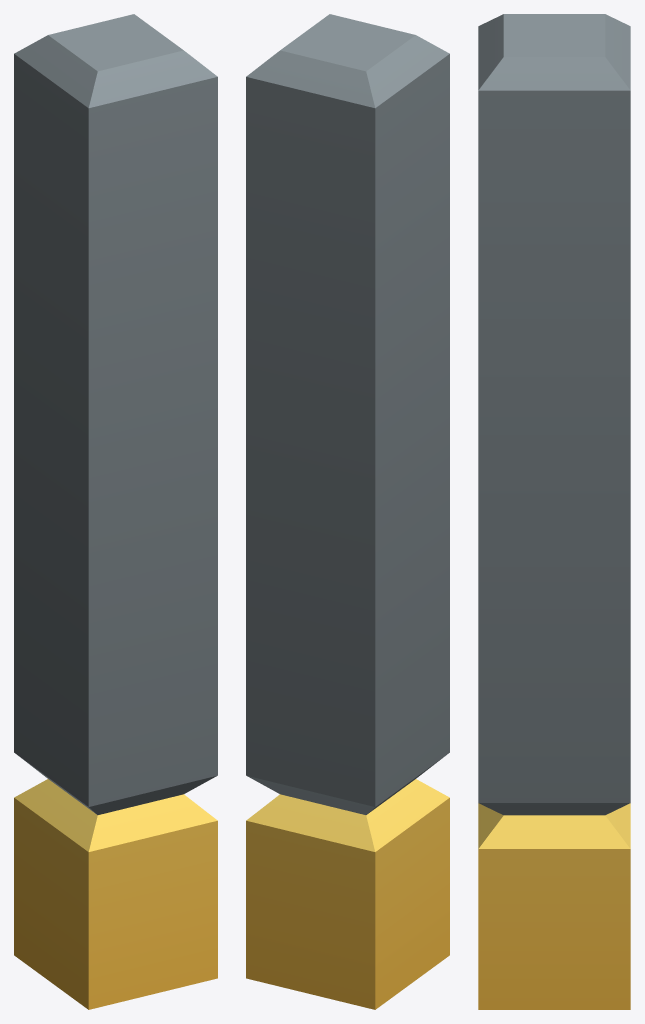
The model's file is Pillar_A.glb.
The picture shows the model from 3 angles, left to right: view 1: azimuth 30°, elevation 25°; view 2: azimuth 150°, elevation 25°; view 3: azimuth 270°, elevation 25°; orthographic projection.
Visible parts, largest first — view 1: Pillar_A; view 2: Pillar_A; view 3: Pillar_A.
Part boxes in pixels (x1=…): Pillar_A: x1=14, y1=14, x2=217, y2=1009; Pillar_A: x1=246, y1=14, x2=449, y2=1009; Pillar_A: x1=478, y1=14, x2=630, y2=1009.
Size of the model in its own units: 0.6 by 4.1 by 0.6.
Materials: 1 (1 with a texture image).
